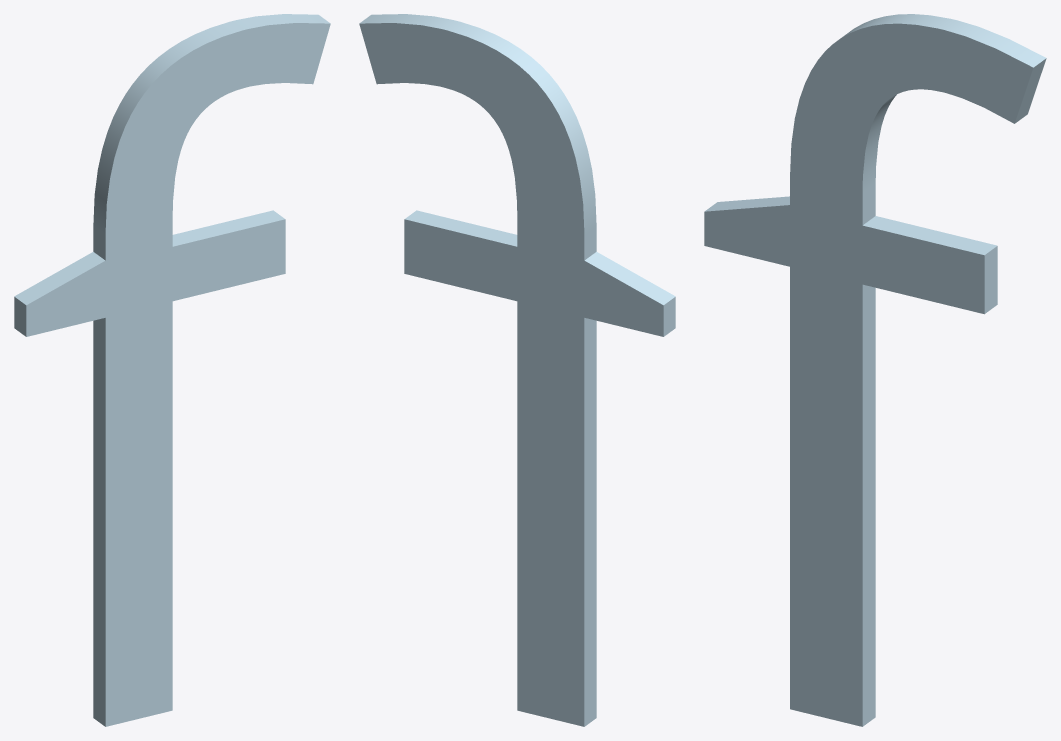
The picture shows the model from 3 angles, left to right: view 1: azimuth 30°, elevation 25°; view 2: azimuth 150°, elevation 25°; view 3: azimuth 330°, elevation 25°; orthographic projection. The views are drawn at different scales.
Parts seen in each view (by area): view 1: f; view 2: f; view 3: f.
Boxes of the visible parts, box(x1,y1,x2,y2) form: f: box(14, 14, 330, 726); f: box(359, 14, 675, 726); f: box(704, 14, 1046, 726).
Bounding box in the file's own units: 0.0289 × 0.0601 × 0.002.
